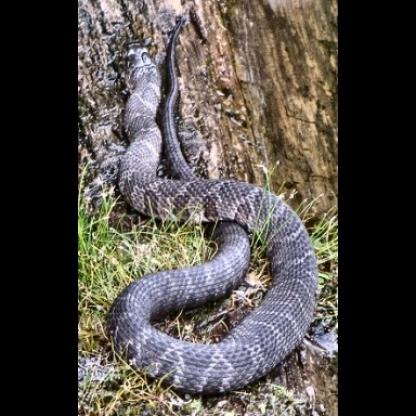Snake: (97, 14, 330, 410)
